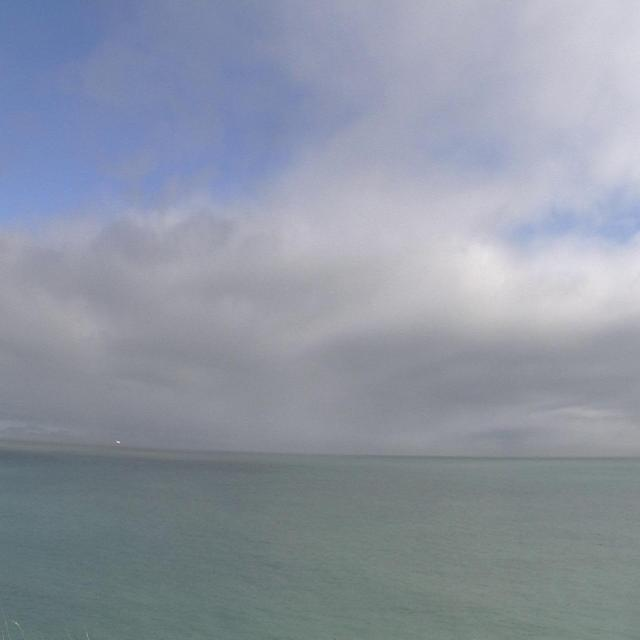drone: (114, 436, 124, 454)
